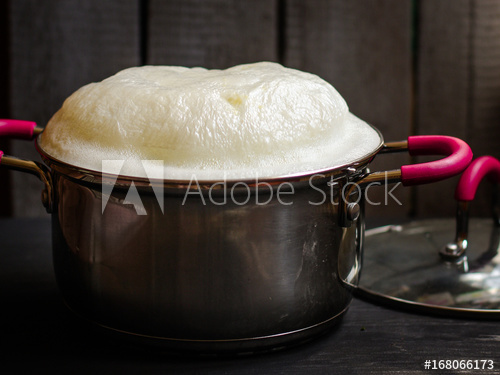Boiled: (26, 59, 401, 334)
